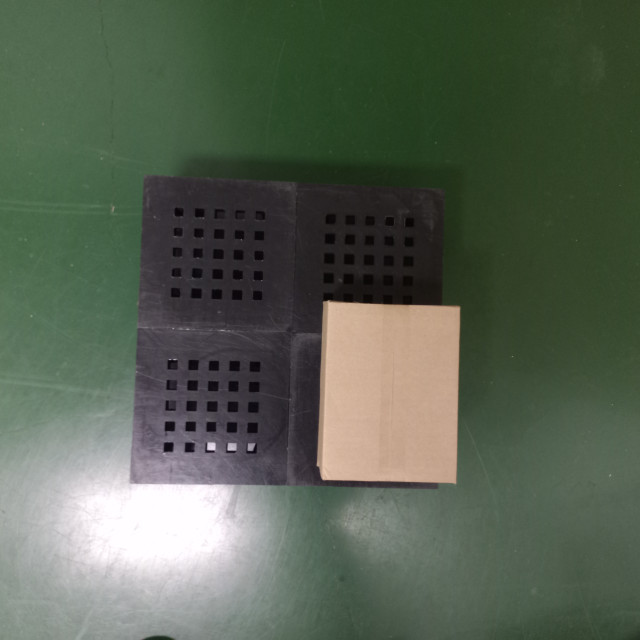box: (318, 300, 461, 486)
pallet: (129, 172, 448, 488)
